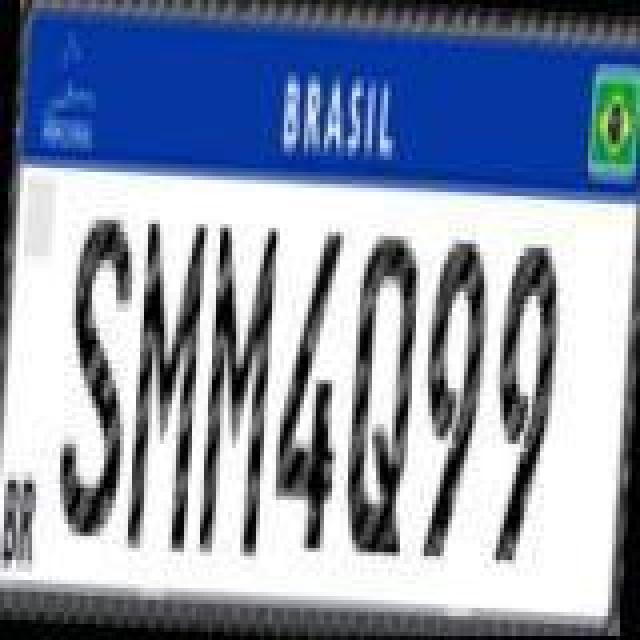4: (270, 224, 354, 556)
9: (414, 230, 498, 566), (486, 236, 570, 572)
M: (196, 218, 284, 562), (126, 214, 210, 554)
Q: (342, 222, 426, 558)
S: (52, 208, 140, 544)
